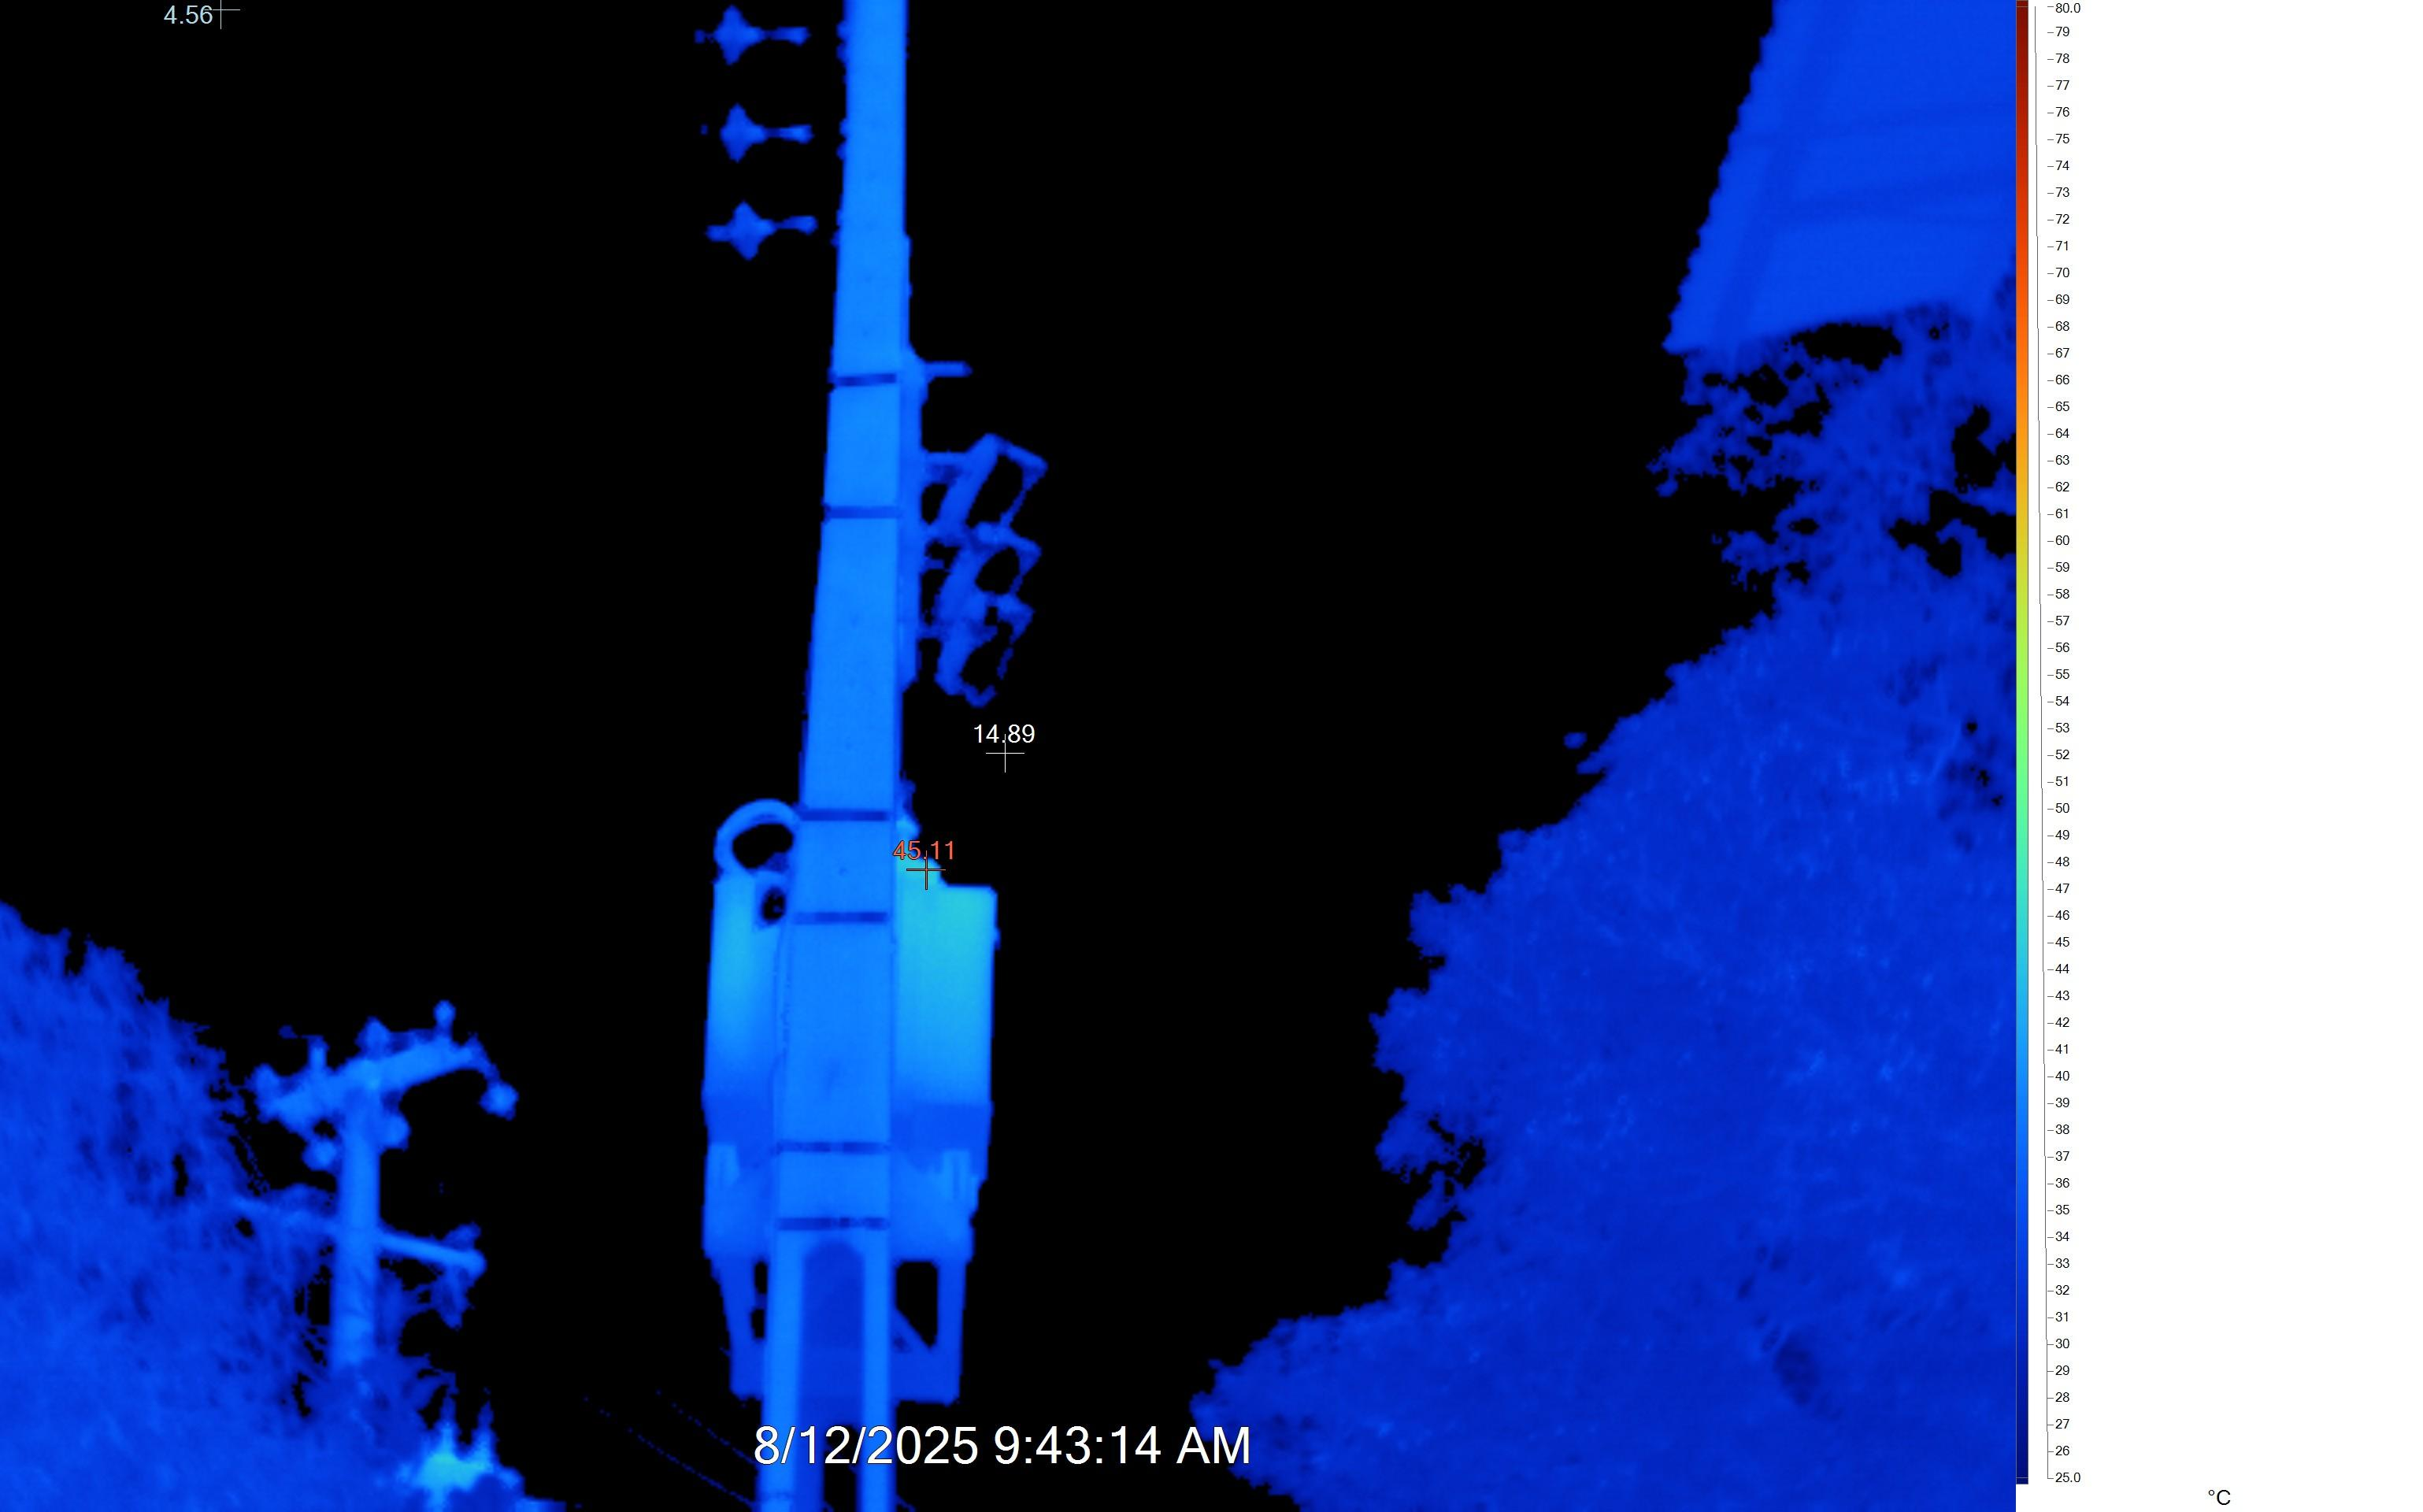normal: (725, 829, 986, 1395)
